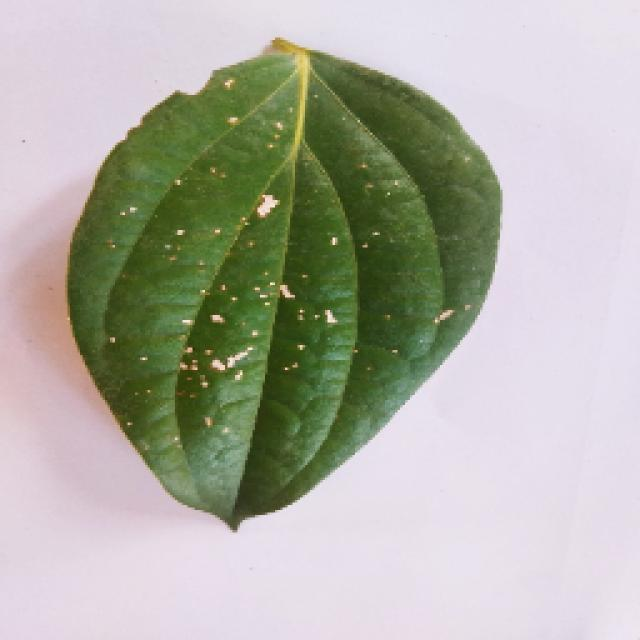pollu-disease: (45, 38, 513, 522)
